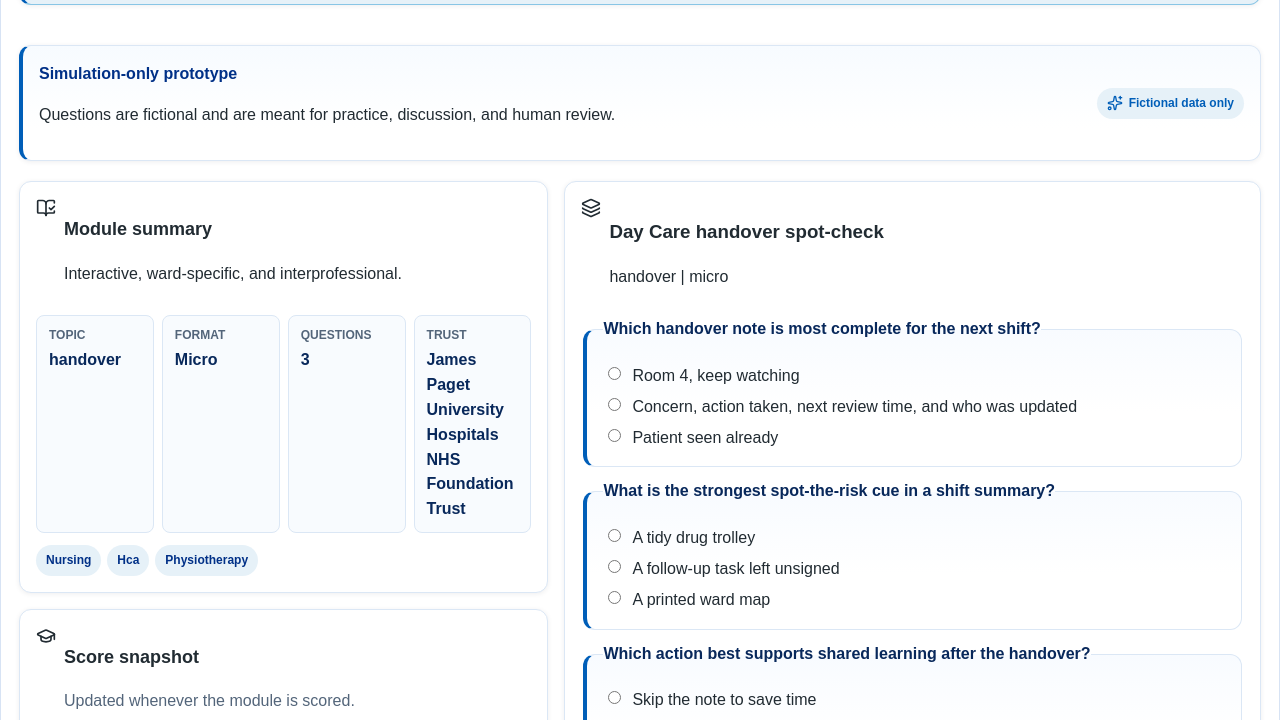
Scenario: LearningHubView › scores the selected answers and awards the badge for a full set of correct responses
(page scrolled)
Click the radio button labelled "Concern, action taken, next review time, and who was updated": (615, 404) [608, 398, 621, 411]
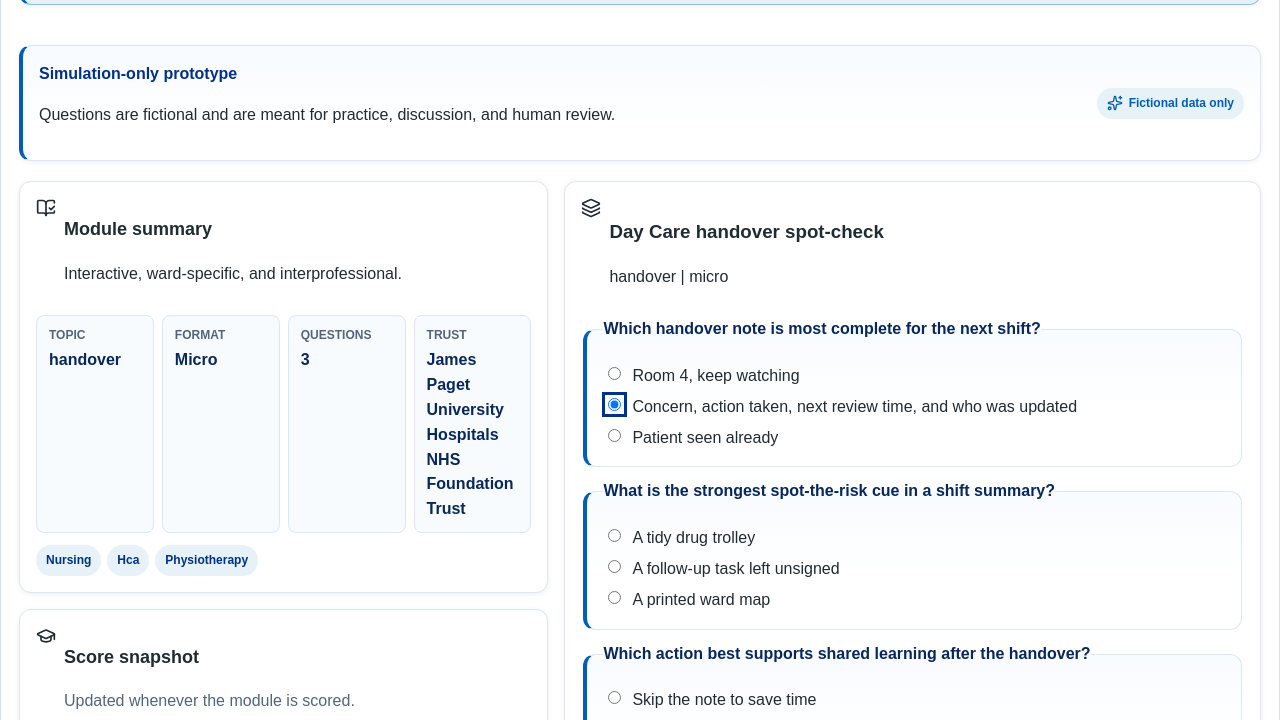
Click the radio button labelled "A follow-up task left unsigned": (615, 567) [608, 560, 621, 573]
(page scrolled)
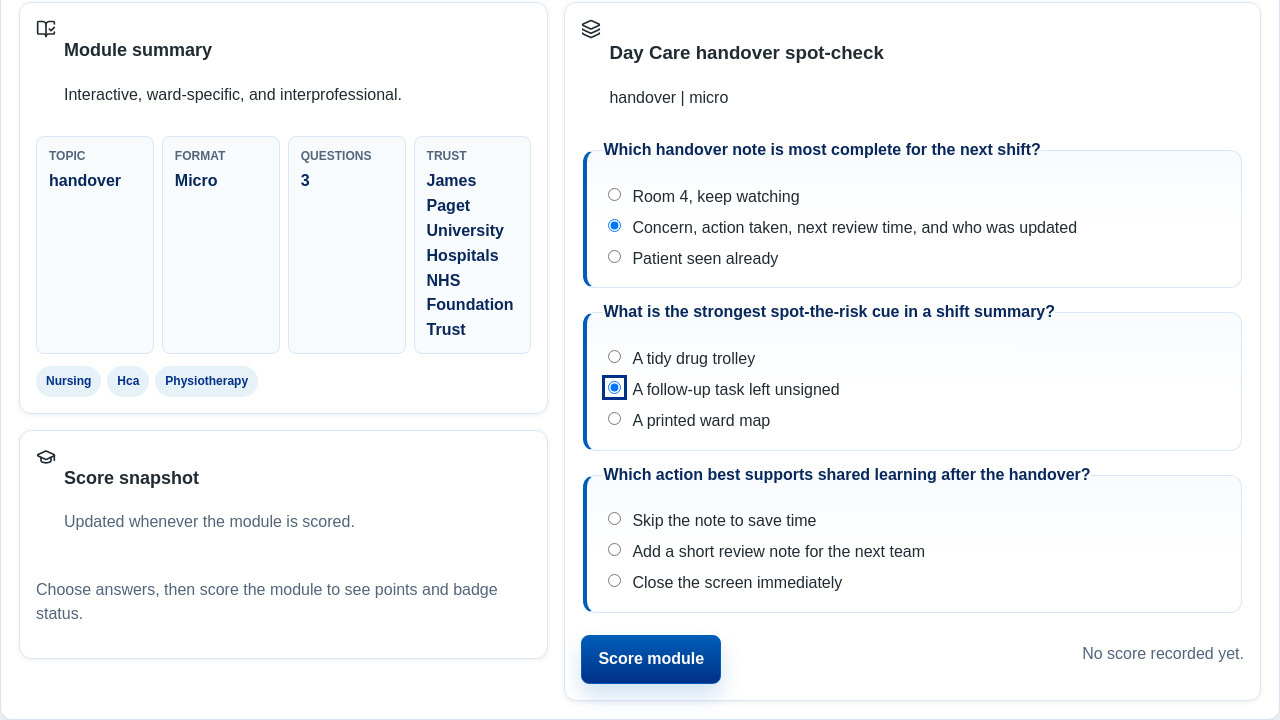
Click the radio button labelled "Add a short review note for the next team": (615, 550) [608, 543, 621, 556]
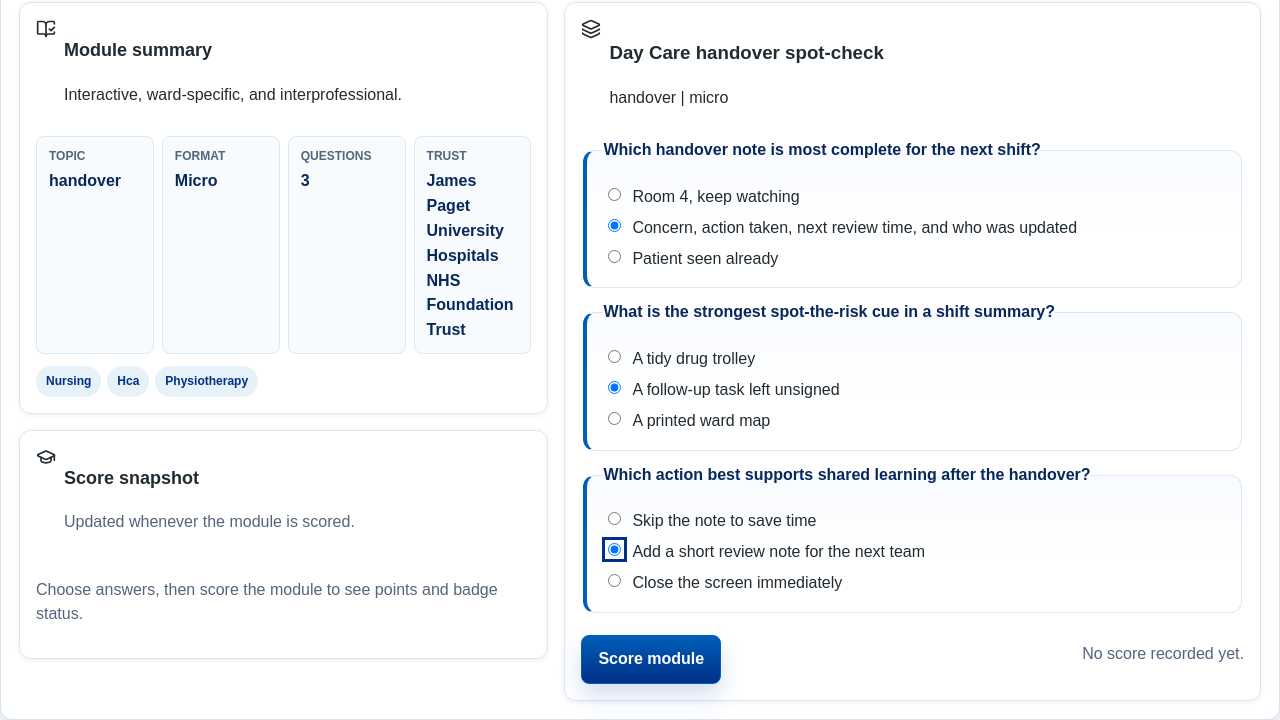
Click the button "Score module": (651, 659) [581, 635, 721, 684]
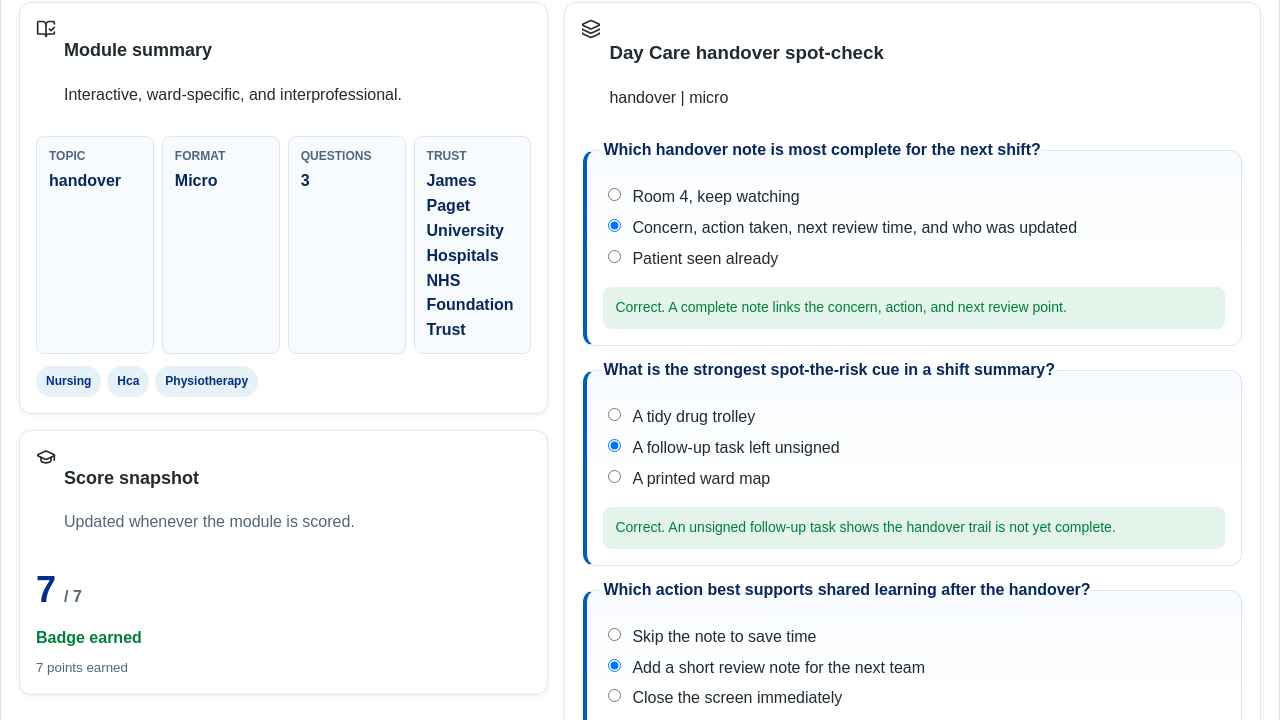
Expected: the heading "Day Care handover spot-check" is shown, [609, 38, 884, 67]
Now the text "Badge earned" is shown, box [36, 629, 142, 646]
Now the text "7 points earned" is shown, box [36, 658, 128, 678]
